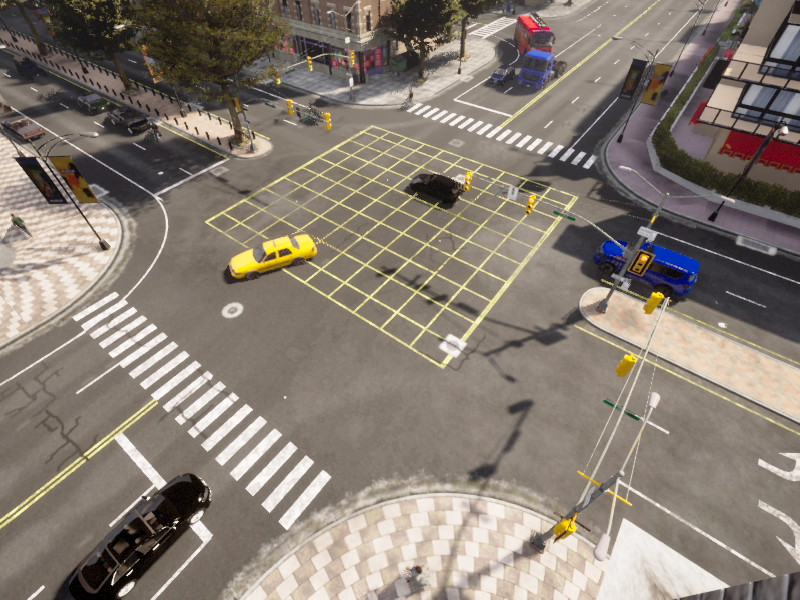vehicle: (584, 222, 704, 304), (218, 224, 316, 286), (404, 161, 464, 207), (100, 99, 157, 138), (144, 118, 171, 145), (299, 100, 324, 125)
